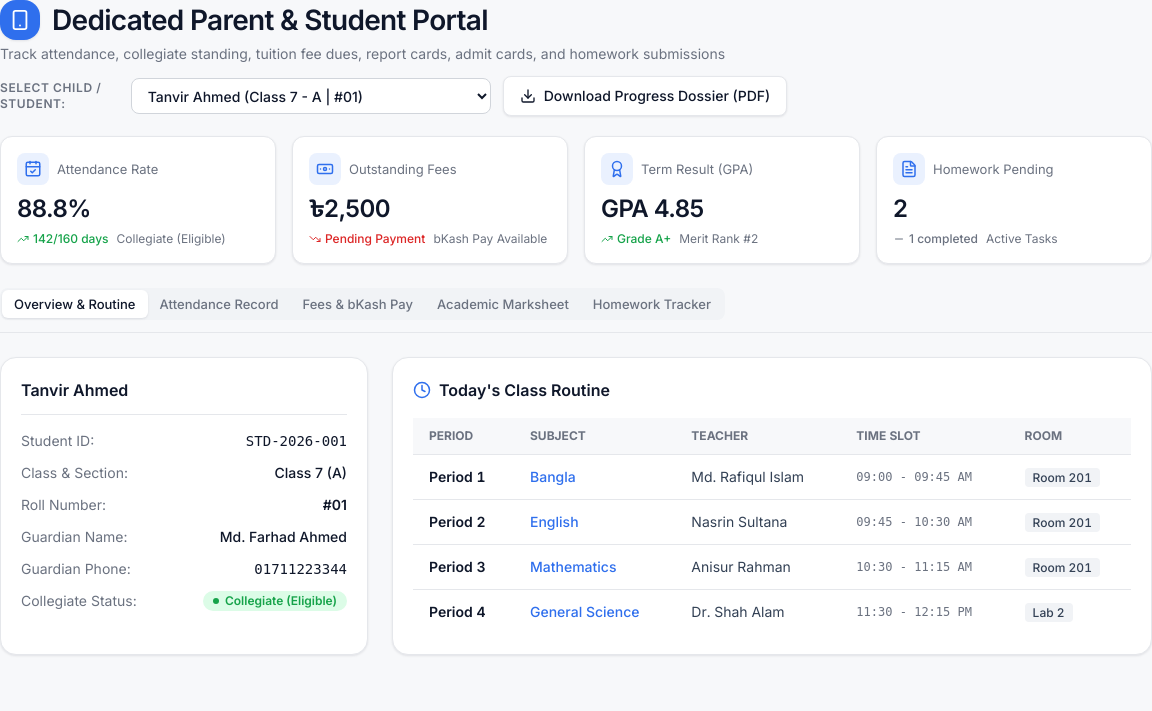
it: ParentPortal Component (Phase 20: Dedicated Parent & Student Portal) › navigates through tabs: Attendance, Fees, Academics, and Homework
Expected: the text "Today's Class Routine" is shown, [439, 378, 610, 402]
Switch to Attendance Record
Click the button "Attendance Record": (219, 304) [148, 290, 290, 318]
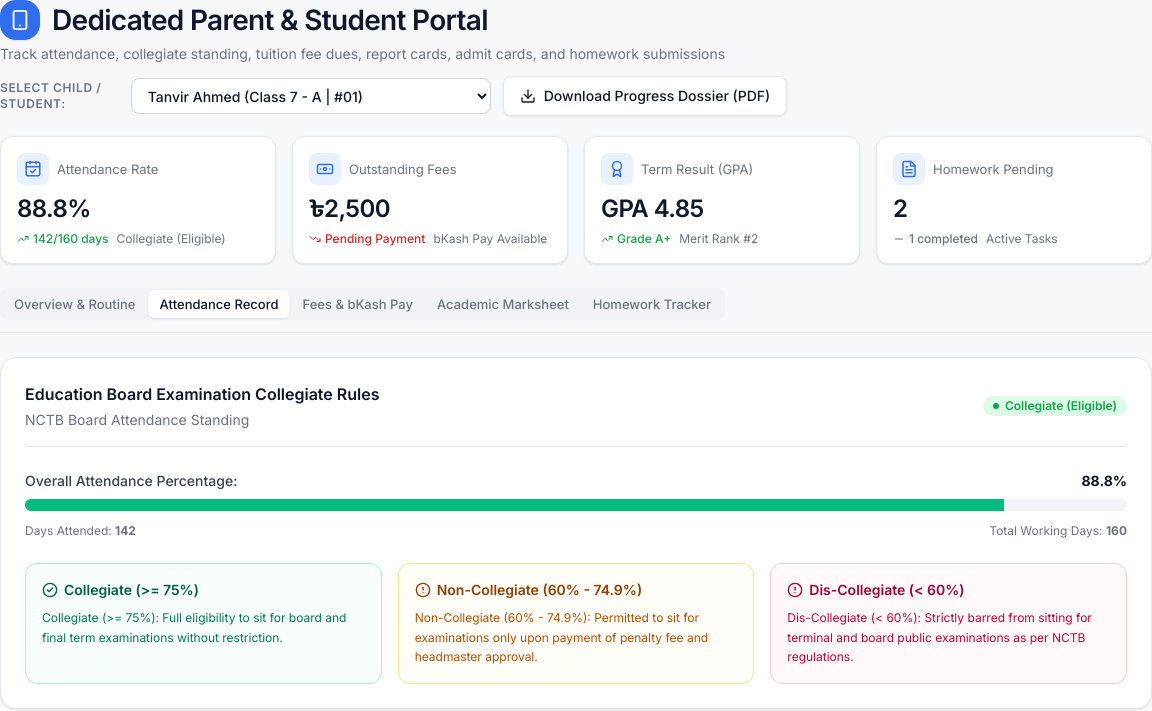
Now the heading "Education Board Examination Collegiate Rules" is shown, box [25, 382, 380, 406]
Now the text "Collegiate (>= 75%)" is shown, box [64, 580, 199, 600]
Now the text "Dis-Collegiate (< 60%)" is shown, box [809, 580, 964, 600]
Switch to Fees & bKash Pay
Click the button "Fees & bKash Pay": (358, 304) [290, 290, 425, 318]
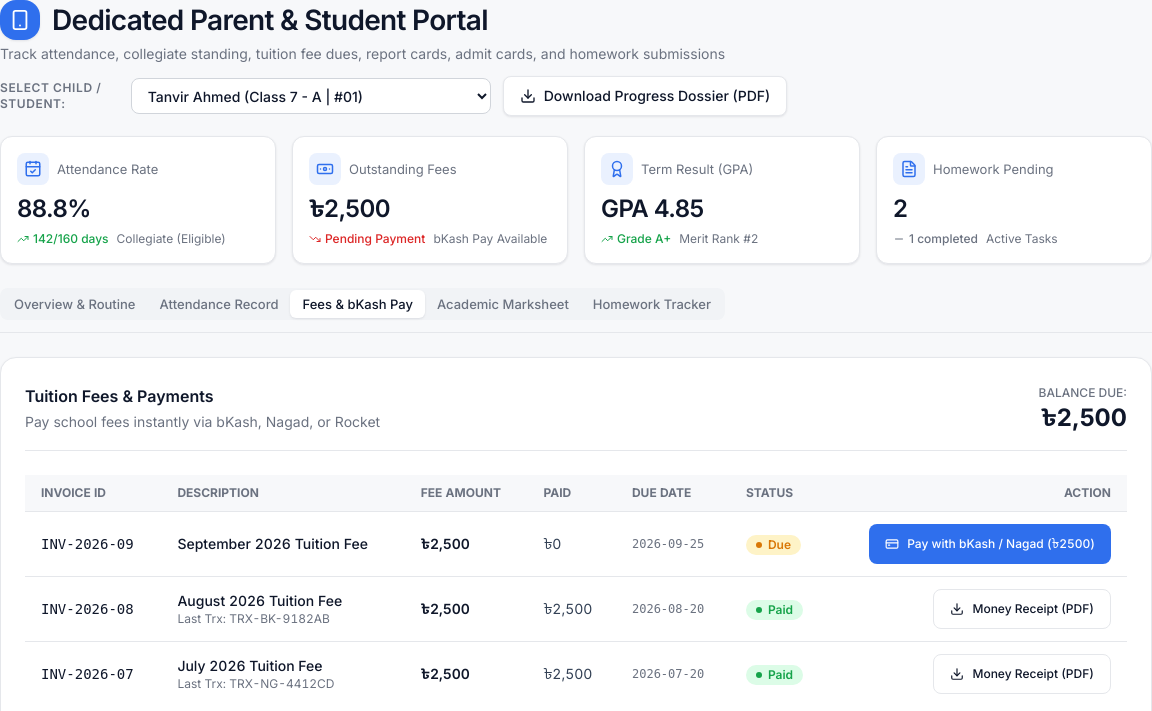
Now the heading "Tuition Fees & Payments" is shown, box [25, 386, 214, 406]
Now the text "September 2026 Tuition Fee" is shown, box [177, 534, 389, 554]
Switch to Academic Marksheet
Click the button "Academic Marksheet": (503, 304) [425, 290, 581, 318]
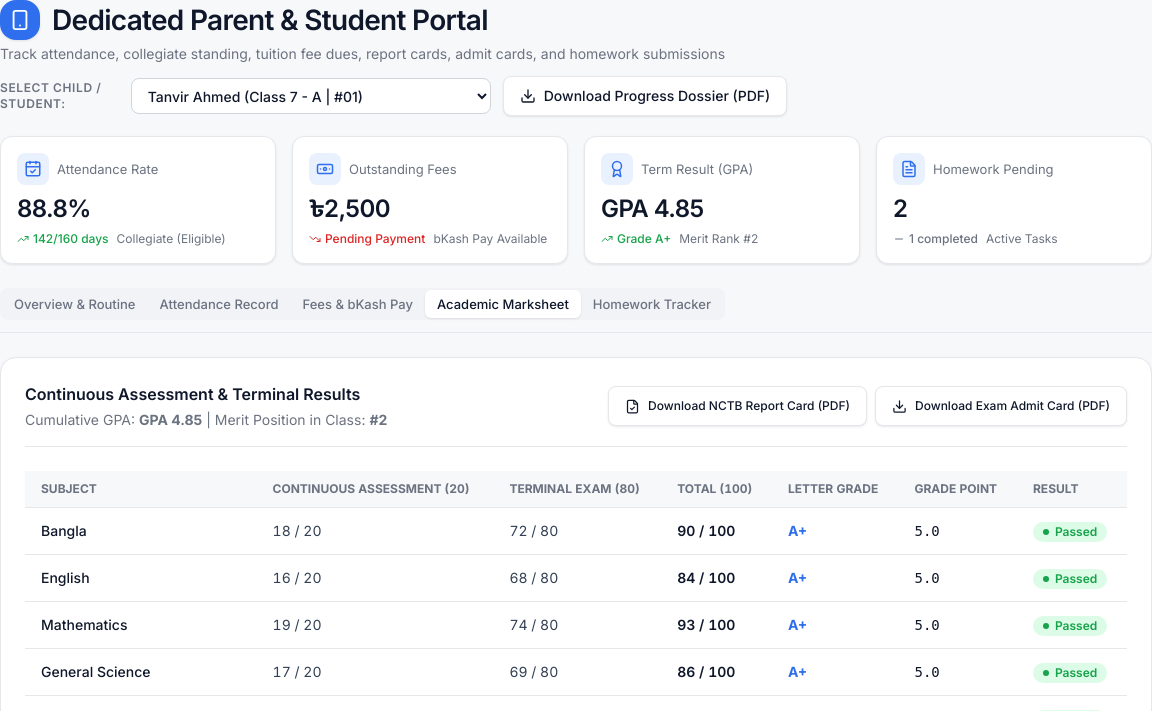
Now the heading "Continuous Assessment & Terminal Results" is shown, box [25, 382, 387, 406]
Now the column heading "Continuous Assessment (20)" is shown, box [257, 471, 493, 508]
Switch to Homework Tracker
Click the button "Homework Tracker": (652, 304) [581, 290, 723, 318]
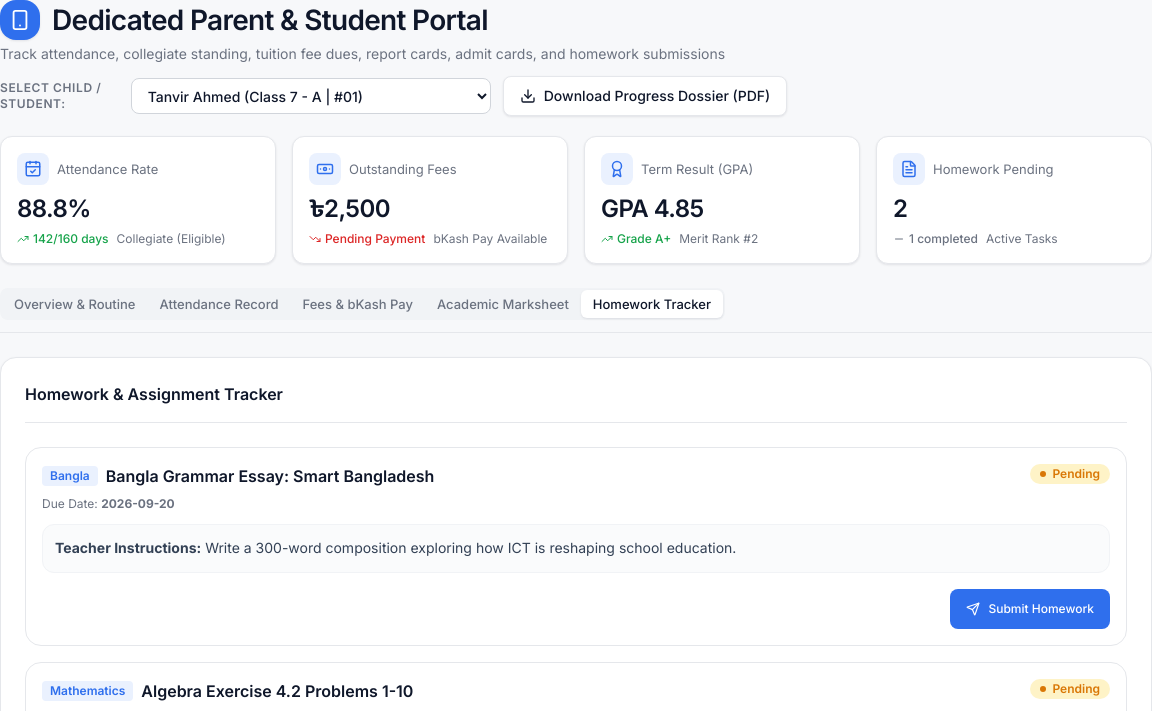
Now the heading "Homework & Assignment Tracker" is shown, box [25, 384, 283, 404]
Now the heading "Bangla Grammar Essay: Smart Bangladesh" is shown, box [106, 464, 434, 488]
